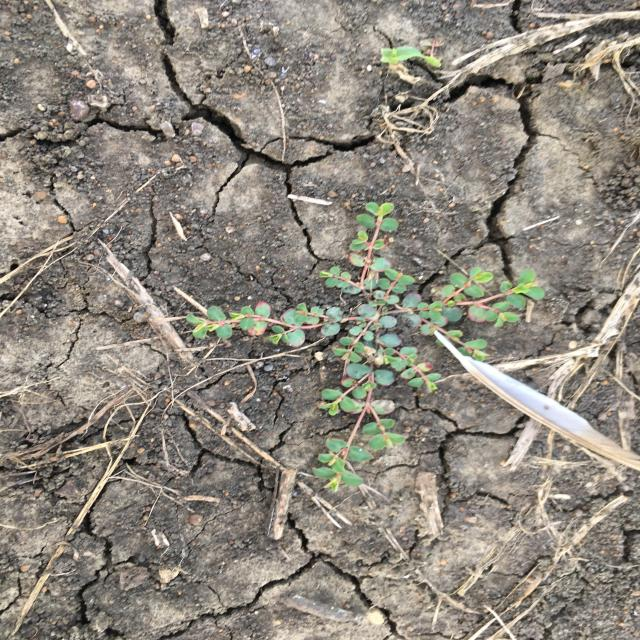SpottedSpurge: (182, 201, 548, 494)
